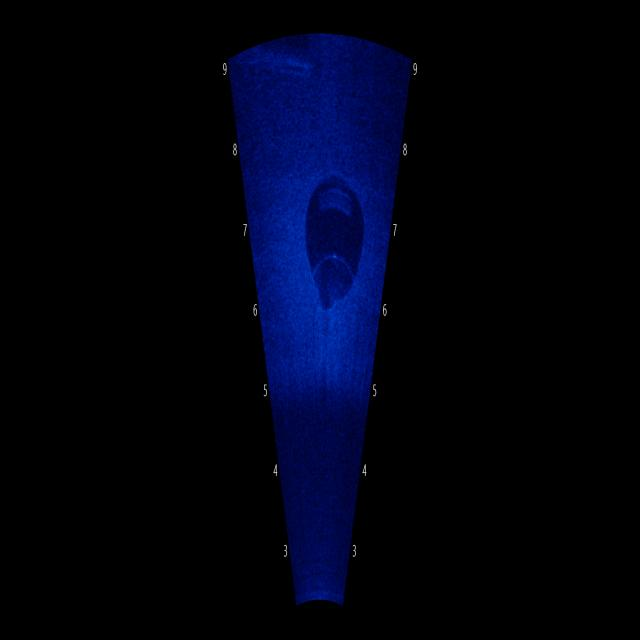circle: (300, 165, 372, 321)
